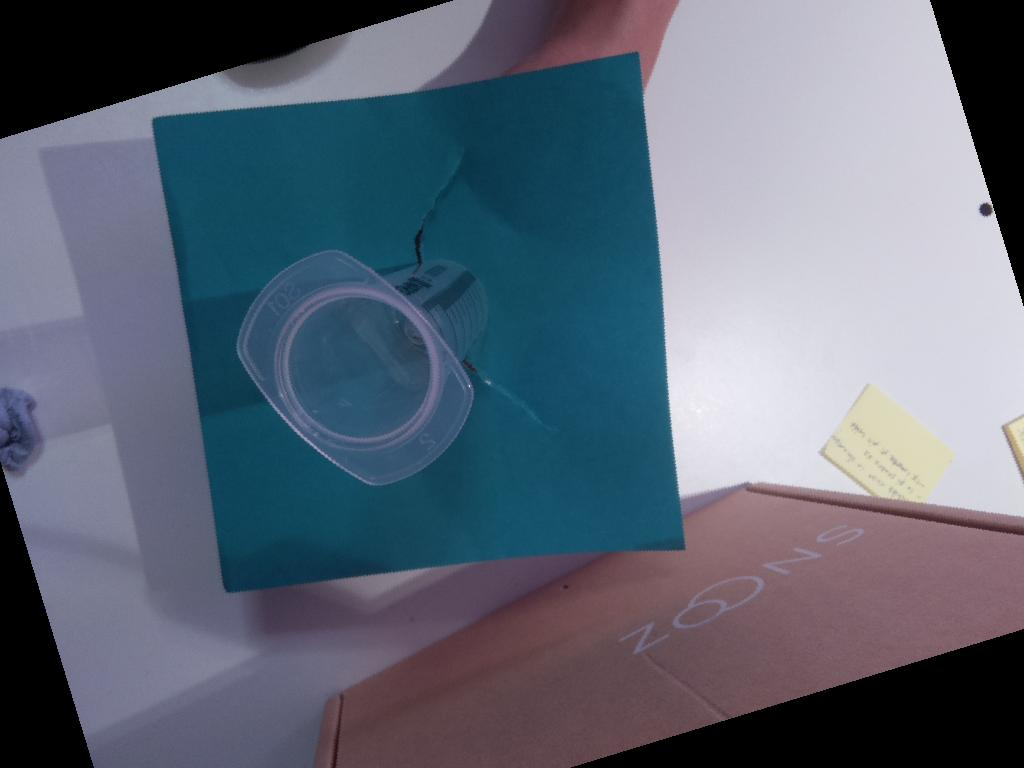clean: (227, 246, 475, 490)
